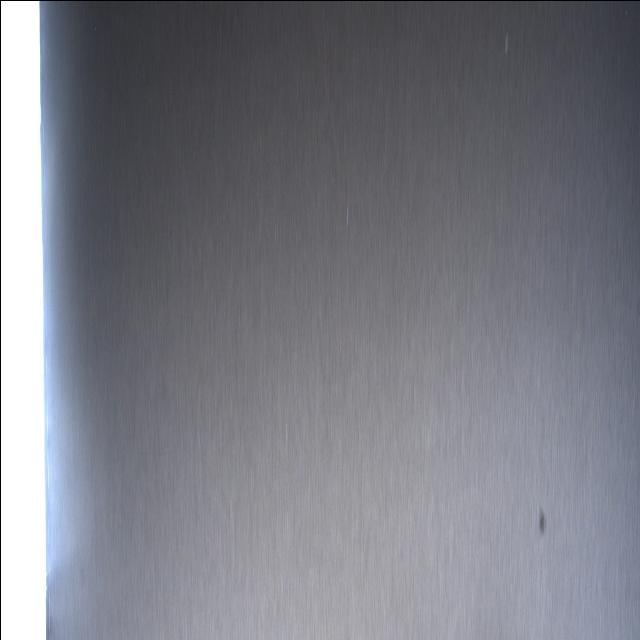whiteDefect: (503, 27, 509, 59), (283, 415, 288, 449), (344, 203, 348, 229)
